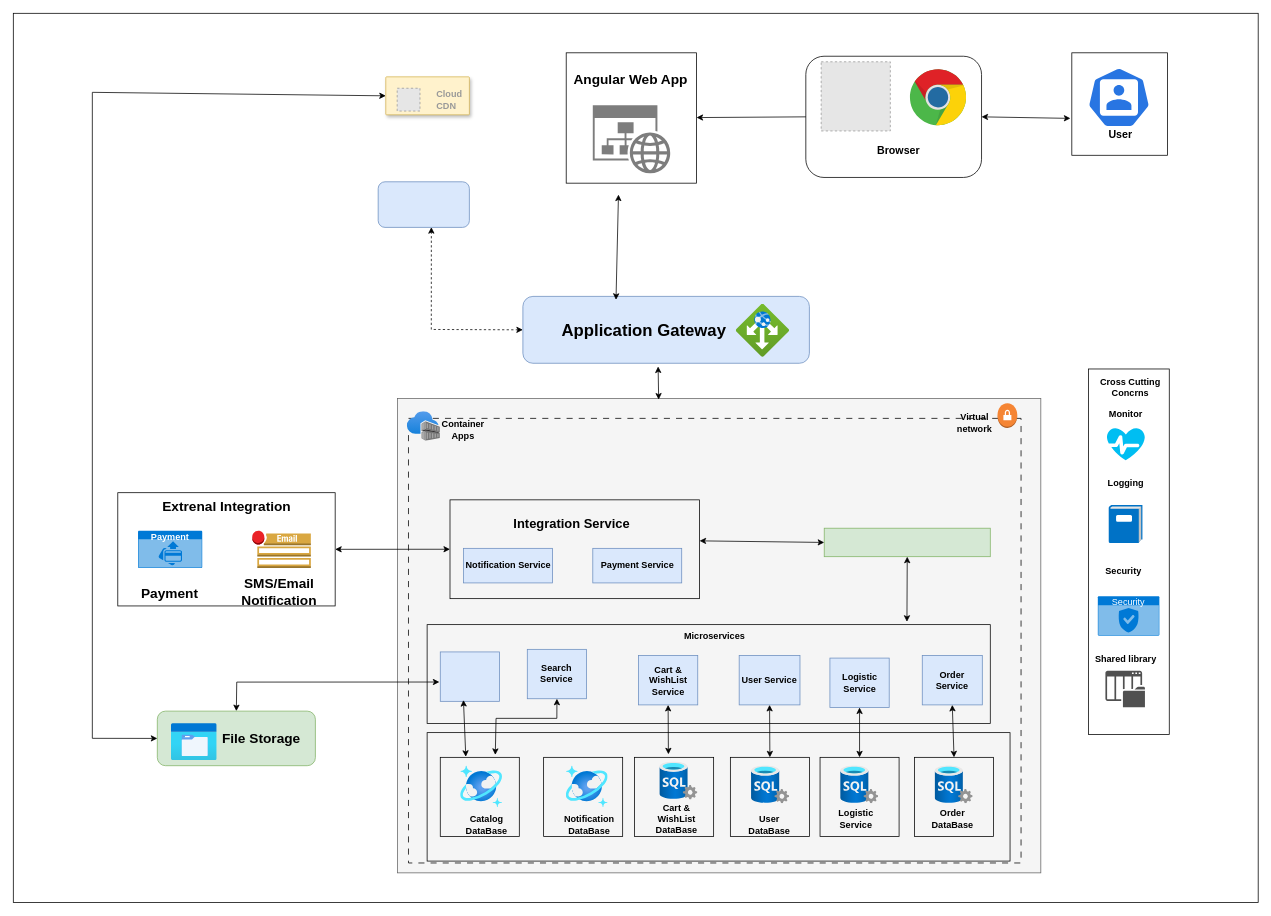
Some shapes in this 1271 by 916 pixel diagram are drawn without their labels. Grey dashed boxes stand in for pictures. Here are the shapes that lost their labels. From the top down, the centre of each, then its label:
(x=423, y=204): IAM
(x=906, y=542): MESSAGE BROKER
(x=470, y=676): Catalog Service
